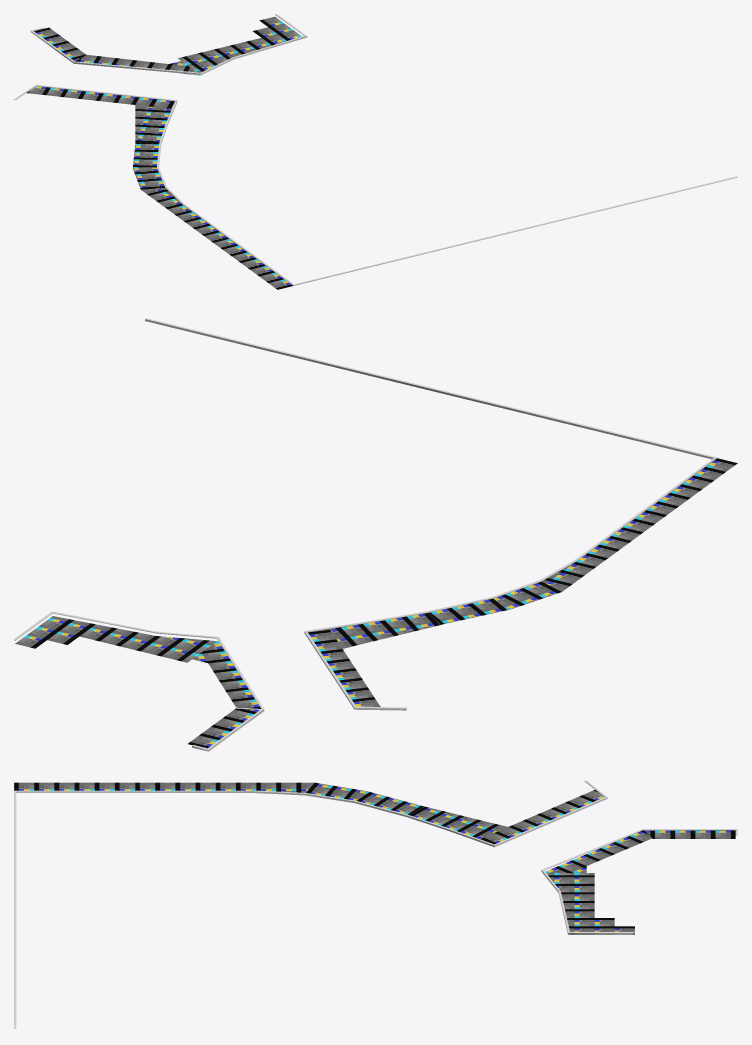
Rendered from downtown_sidewalk_9.fbx.
3 views of the same model, one above another, from view 1: azimuth 30°, elevation 25°; view 2: azimuth 150°, elevation 25°; view 3: azimuth 270°, elevation 25° (orthographic). The views are drawn at different scales.
Parts seen in each view (by area): view 1: Object041, c4, Object029, Object039, Line045; view 2: Object041, c4, Object029, Object039; view 3: Object041, c4, Object029, Object039, Line047, Line045.
Boxes of the visible parts, x1,y1,x2,y2 form: Object041: [27, 86, 292, 289]; c4: [156, 14, 737, 285]; Object029: [178, 16, 301, 72]; Object039: [34, 27, 200, 75]; Line045: [30, 27, 201, 74]; Object041: [308, 458, 737, 706]; c4: [14, 318, 717, 640]; Object029: [15, 616, 216, 662]; Object039: [188, 641, 260, 748]; Object041: [14, 782, 603, 844]; c4: [14, 790, 634, 1028]; Object029: [546, 873, 634, 934]; Object039: [545, 830, 735, 872]; Line047: [478, 780, 607, 847]; Line045: [541, 829, 737, 870].
Size of the model in its own units: 4752 by 40.37 by 5853.
